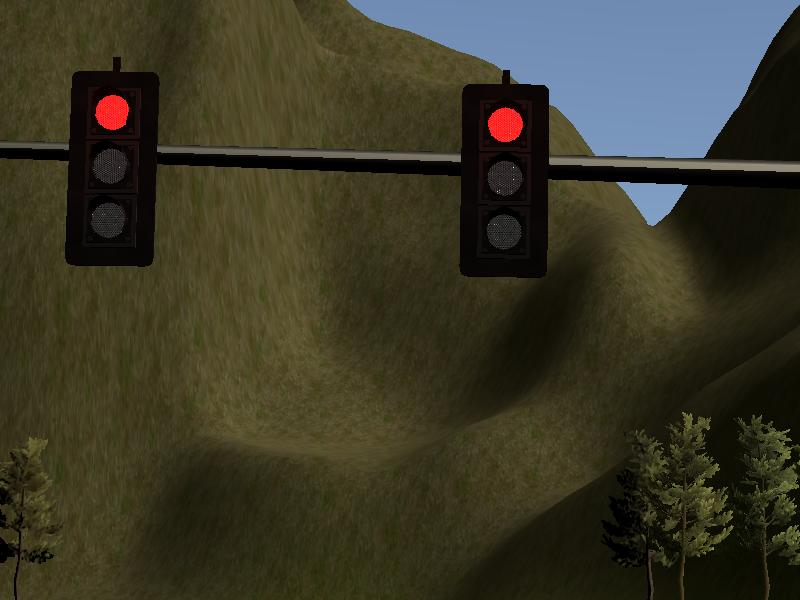red: (68, 71, 153, 266), (461, 83, 546, 278)
